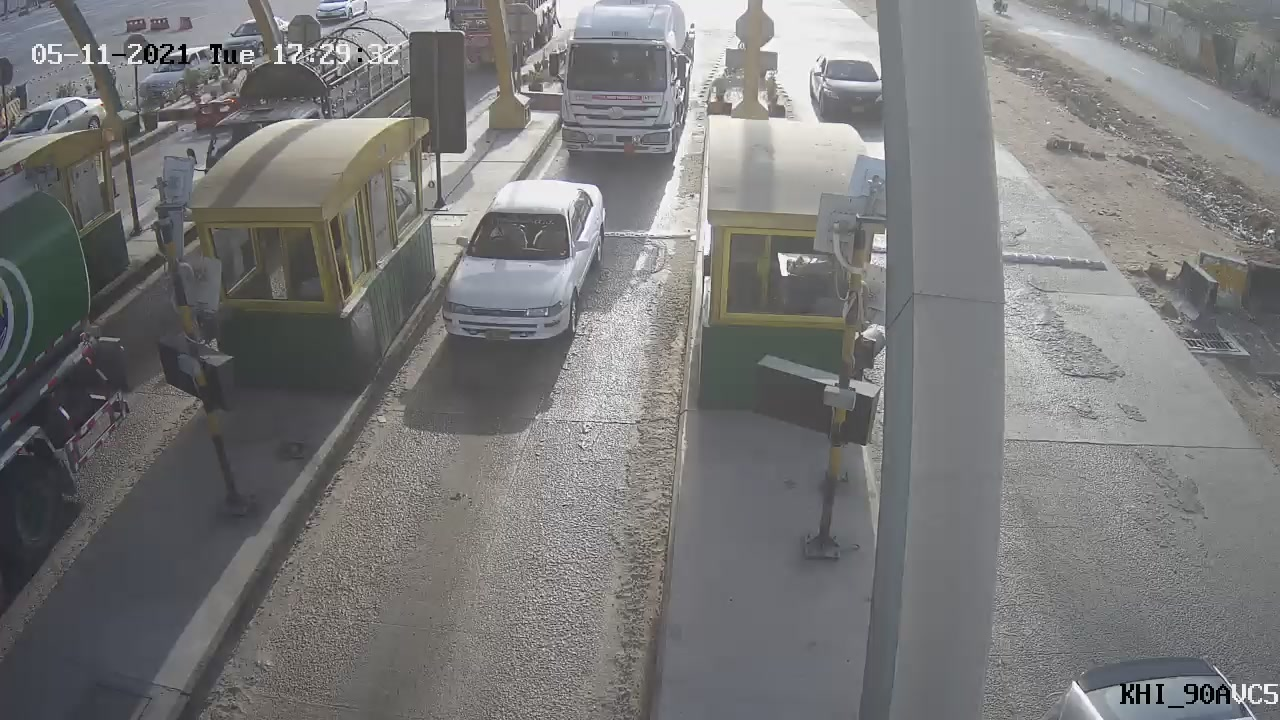F1: (426, 164, 624, 368)
